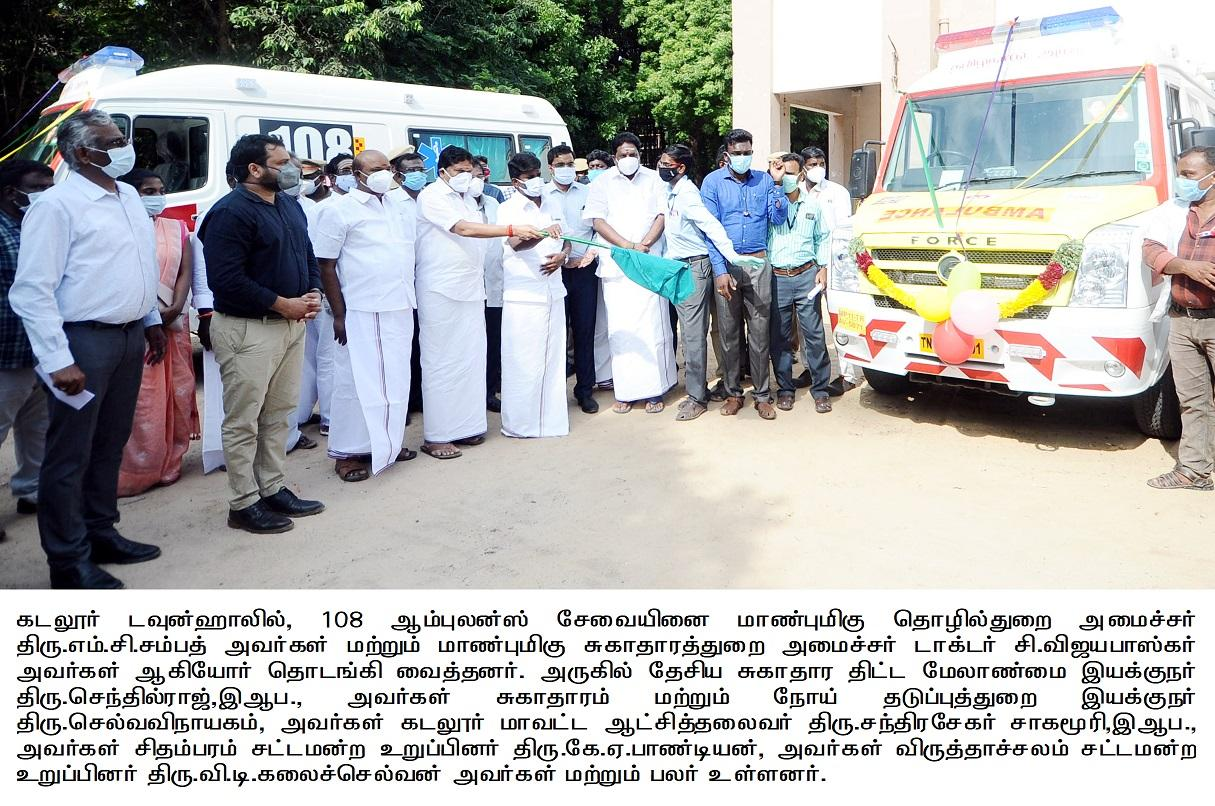ER: (830, 3, 1215, 442)
